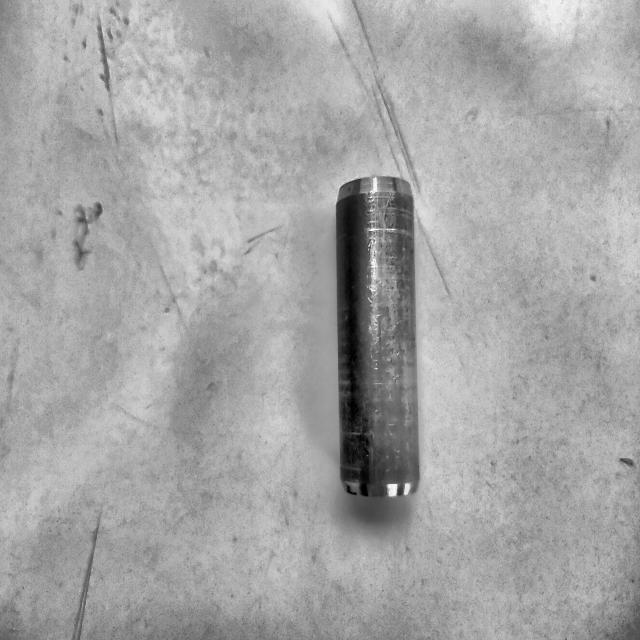Broken: (333, 171, 422, 509)
